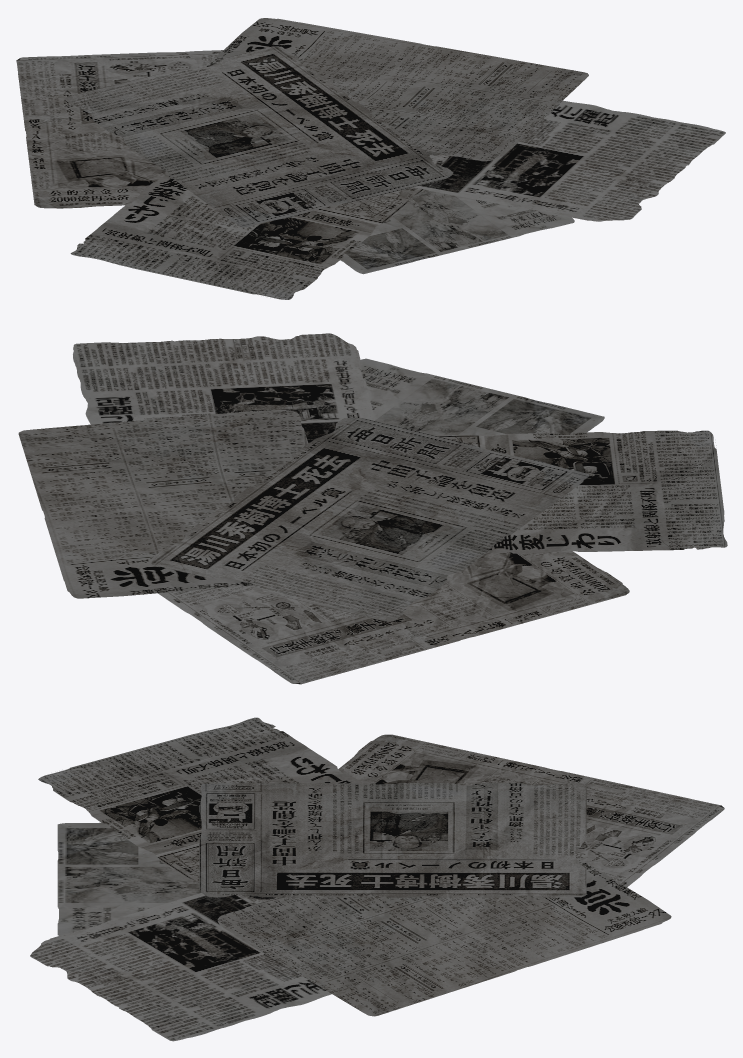
The model's file is Newspaper3.fbx.
3 views of the same model, one above another, from view 1: azimuth 30°, elevation 25°; view 2: azimuth 150°, elevation 25°; view 3: azimuth 270°, elevation 25° (orthographic). The views are drawn at different scales.
Visible parts, largest first — view 1: polySurface3; view 2: polySurface3; view 3: polySurface3.
Part boxes in pixels (x1,y1,x2,y2): polySurface3: (16, 18, 725, 299); polySurface3: (18, 333, 727, 684); polySurface3: (30, 717, 724, 1041).
Bounding box in the file's own units: 5.95 × 0.1145 × 5.47.
